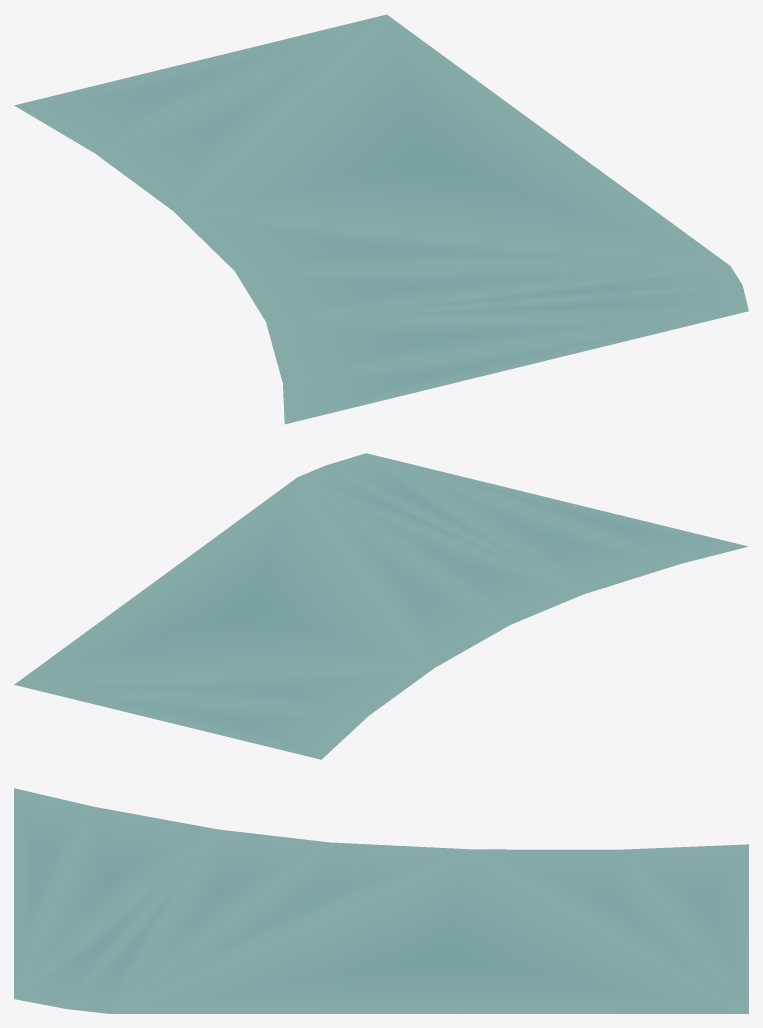
Rendered from water-18-11.glb.
The picture shows the model from 3 angles, top to bottom: view 1: azimuth 30°, elevation 25°; view 2: azimuth 150°, elevation 25°; view 3: azimuth 270°, elevation 25°; orthographic projection. The views are drawn at different scales.
Size of the model in its own units: 11.63 by 0 by 16.
